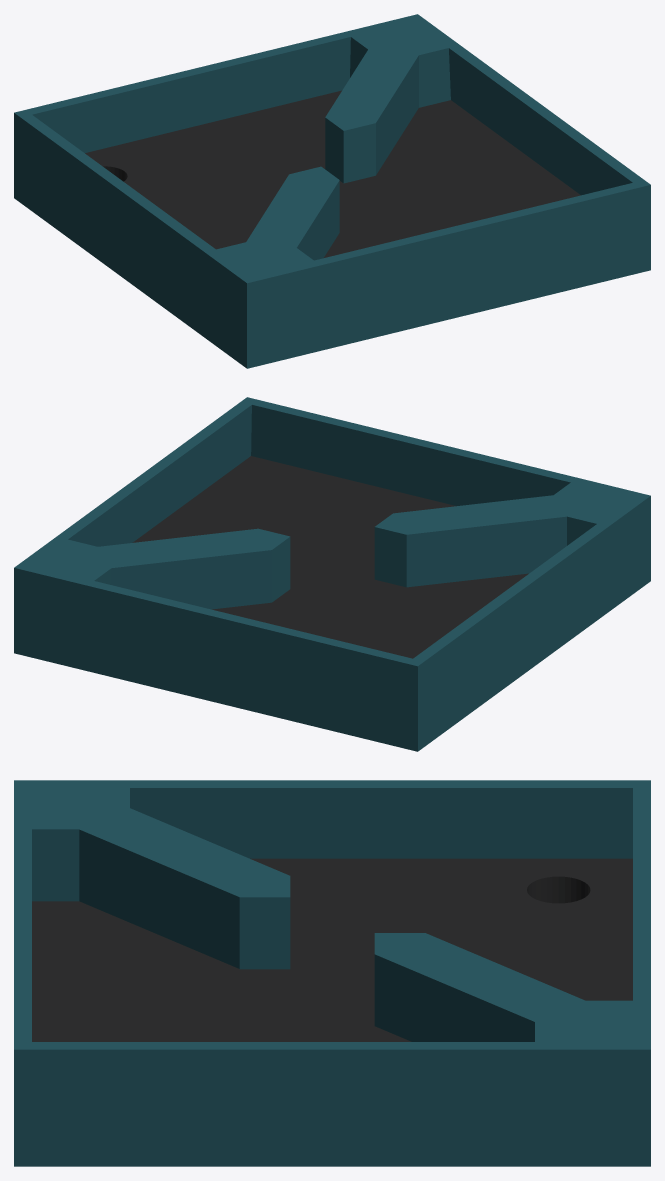
Rendered from maze_hole.fbx.
The picture shows the model from 3 angles, top to bottom: view 1: azimuth 30°, elevation 25°; view 2: azimuth 150°, elevation 25°; view 3: azimuth 270°, elevation 25°; orthographic projection. The views are drawn at different scales.
Visible parts, largest first — view 1: maze_hole.001; view 2: maze_hole.001; view 3: maze_hole.001.
Boxes of the visible parts, x1,y1,x2,y2 form: maze_hole.001: (14,14,650,368); maze_hole.001: (14,397,650,751); maze_hole.001: (14,780,650,1166).
Bounding box in the file's own units: 50 × 10.12 × 50.
